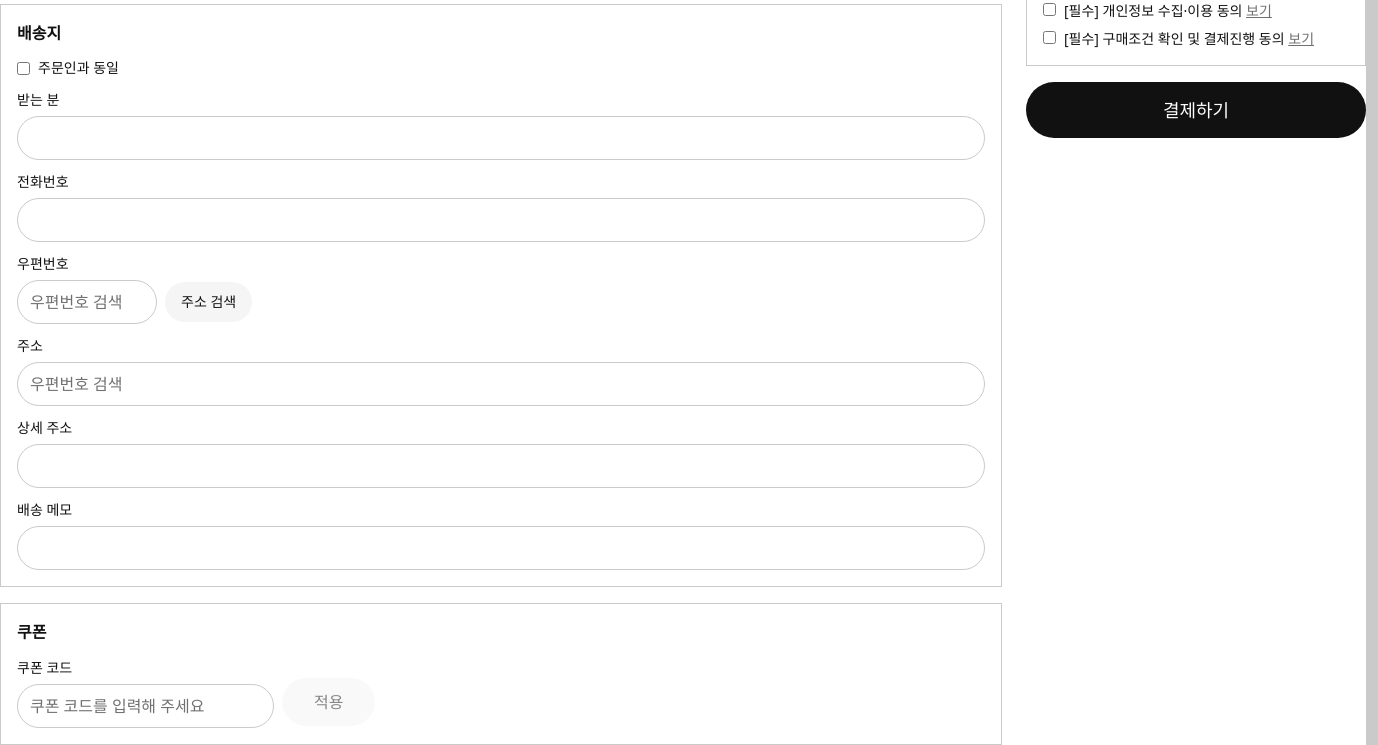
Scenario: <CheckoutClient> 쿠폰 (FS-X-04, ADR-026) › 해제 — 할인 행이 사라지고 입력 폼으로 복귀한다
The width and height of the screenshot is (1378, 745).
(page scrolled)
Type "welcome5" into the field with test id "coupon-input" at x=146, y=706, box [17,684,274,728]
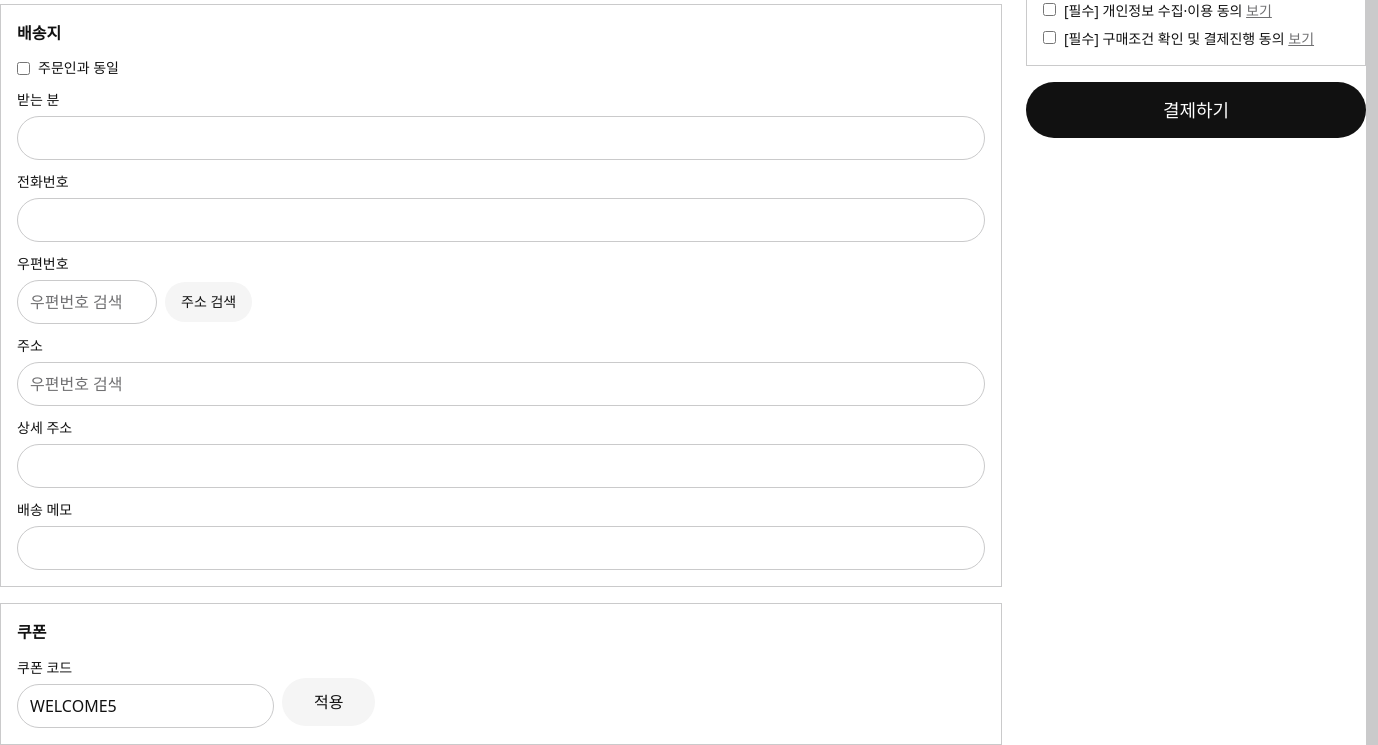
Click the button with test id "coupon-apply" at x=329, y=702, box [282,678,376,726]
(page scrolled)
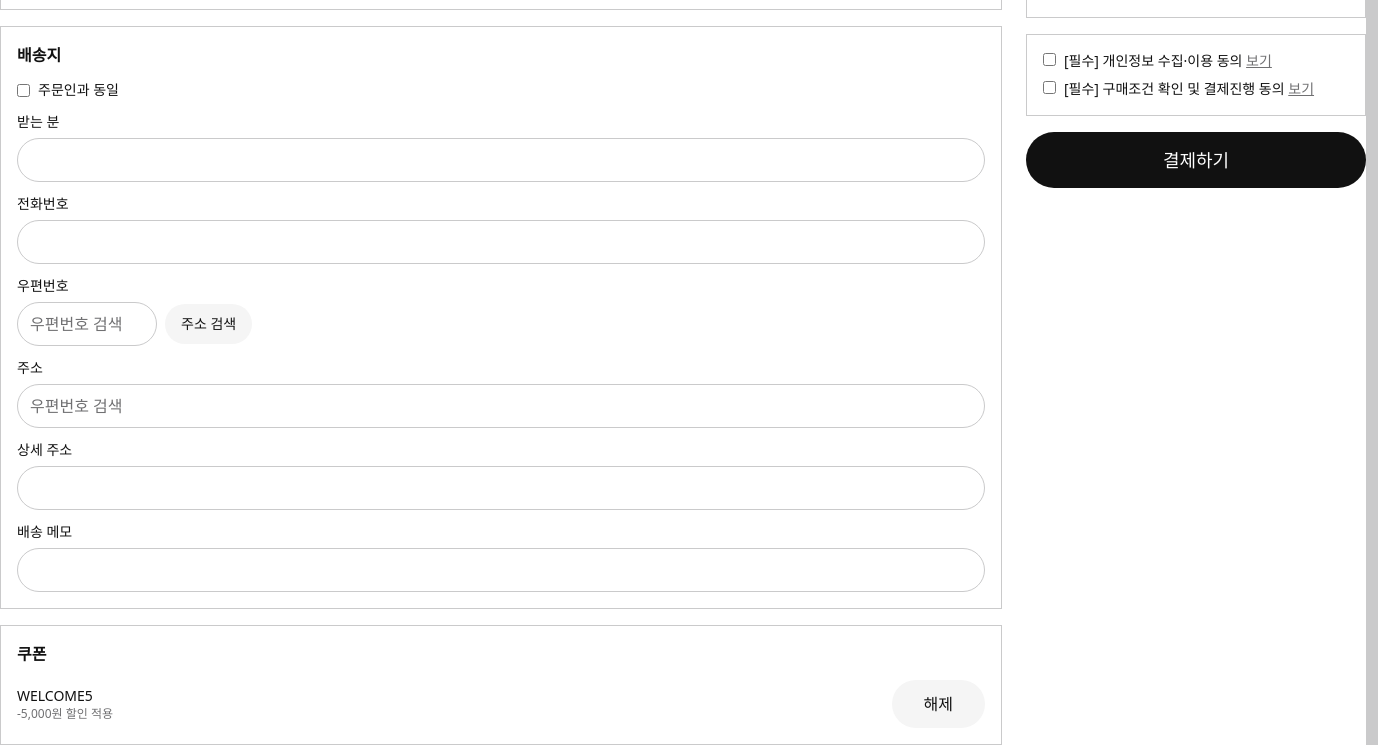
Result: the button with test id "coupon-clear" is shown
Click the button with test id "coupon-clear" at x=938, y=704, box [892,680,985,728]
(page scrolled)
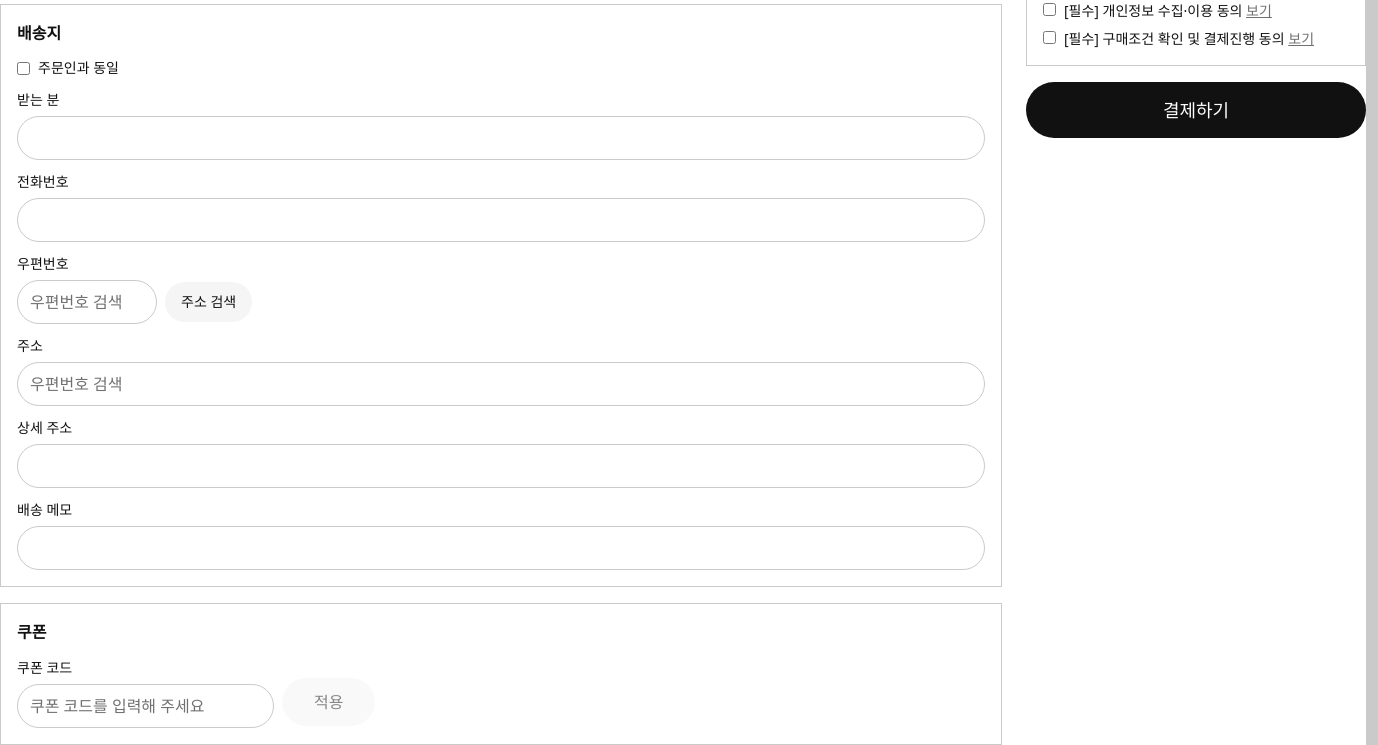
Result: the field with test id "coupon-input" is shown at [17,684,274,728]
